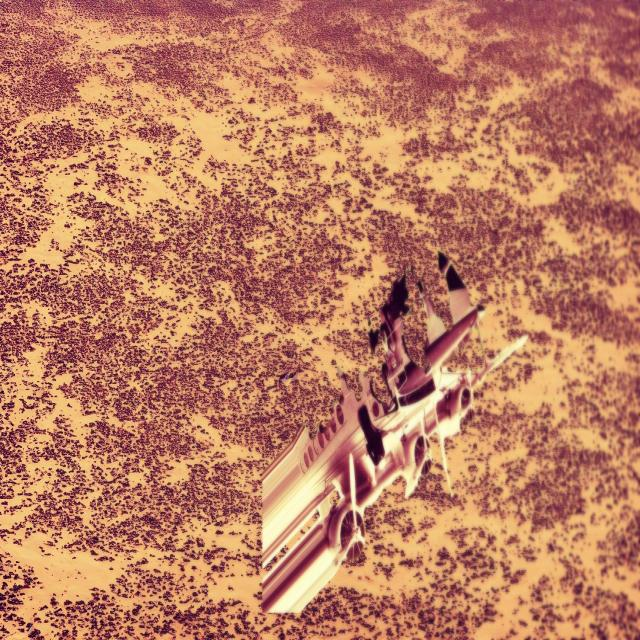airplane: (260, 248, 528, 615)
